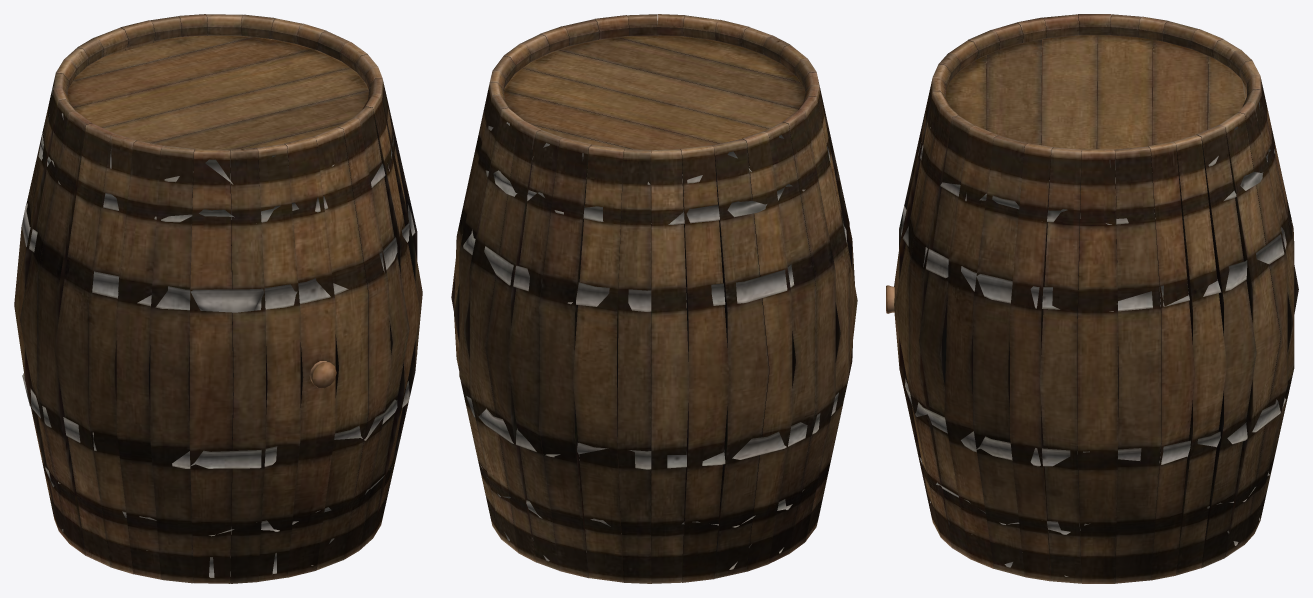
File: barrel_wooden.glb
3 renders of one model, left to right at view 1: azimuth 30°, elevation 25°; view 2: azimuth 150°, elevation 25°; view 3: azimuth 270°, elevation 25°, orthographic.
Visible parts, largest first — view 1: wine_barrel_01, wine_barrel_01_Lid, wine_barrel_01_bung; view 2: wine_barrel_01, wine_barrel_01_Lid; view 3: wine_barrel_01, wine_barrel_01_Lid.
Boxes of the visible parts, x1,y1,x2,y2 form: wine_barrel_01: [14, 14, 422, 583]; wine_barrel_01_Lid: [67, 36, 368, 149]; wine_barrel_01_bung: [309, 361, 336, 388]; wine_barrel_01: [451, 14, 857, 583]; wine_barrel_01_Lid: [503, 36, 805, 152]; wine_barrel_01: [894, 14, 1298, 583]; wine_barrel_01_Lid: [946, 35, 1246, 149].
Size of the model in its own units: 0.7391 by 0.8695 by 0.754.
1 material, 1 textured.
